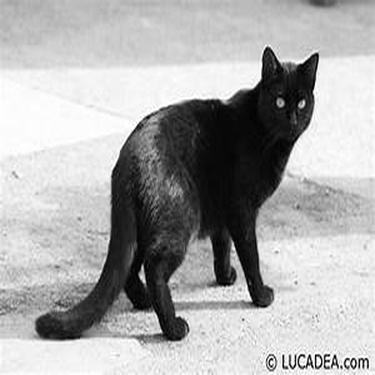cat: (33, 43, 326, 339)
